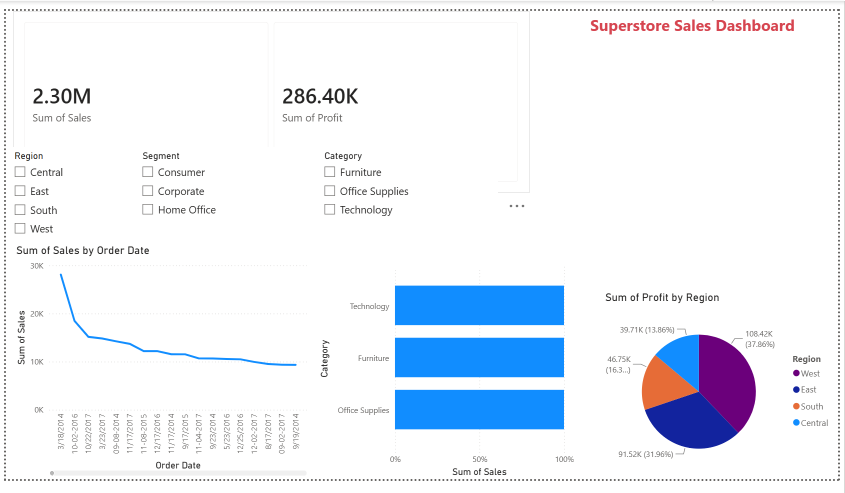

This screenshot's page, from the dashboard's own definition file:
{"tool":"powerbi","page":{"name":"Page 1","canvas":[1280,720],"ordinal":0},"visuals":[{"type":"cardVisual","fields":{"Data":["Sum(Sample_ Superstore.Sales)","Sum(Sample_ Superstore.Profit)"]},"box":[10.8,0,795.4,280],"z":0},{"type":"hundredPercentStackedBarChart","fields":{"Y":["Sum(Sample_ Superstore.Sales)"],"Category":["Sample_ Superstore.Category"]},"box":[476.9,358.5,401.5,363.1],"z":1},{"type":"pieChart","fields":{"Category":["Sample_ Superstore.Region"],"Y":["Sum(Sample_ Superstore.Profit)"]},"box":[916.9,430.8,363.1,290.8],"z":2},{"type":"lineChart","fields":{"Category":["Sample_ Superstore.Order Date"],"Y":["Sum(Sample_ Superstore.Sales)"]},"box":[10.8,358.5,456.9,361.5],"z":3},{"type":"slicer","fields":{"Values":["Sample_ Superstore.Region"]},"box":[0,209.2,280,138.5],"z":4},{"type":"slicer","fields":{"Values":["Sample_ Superstore.Segment"]},"box":[196.9,209.2,280,149.2],"z":5},{"type":"slicer","fields":{"Values":["Sample_ Superstore.Category"]},"box":[476.9,209.2,280,189.2],"z":6},{"type":"textbox","box":[893.8,0,386.2,53.8],"z":7}]}

Visuals, with their boxes on the page's 1280x720 design canvas (x1, y1, x2, y2). These are canvas units, not pixel positions in the 845x493 screenshot, which may show the page scaled, cropped or inside an application window:
cardVisual - Sum(Sample_ Superstore.Sales) x Sum(Sample_ Superstore.Profit): rect(11, 0, 806, 280)
hundredPercentStackedBarChart - Sum(Sample_ Superstore.Sales) x Sample_ Superstore.Category: rect(477, 358, 878, 722)
pieChart - Sample_ Superstore.Region x Sum(Sample_ Superstore.Profit): rect(917, 431, 1280, 722)
lineChart - Sample_ Superstore.Order Date x Sum(Sample_ Superstore.Sales): rect(11, 358, 468, 720)
slicer - Sample_ Superstore.Region: rect(0, 209, 280, 348)
slicer - Sample_ Superstore.Segment: rect(197, 209, 477, 358)
slicer - Sample_ Superstore.Category: rect(477, 209, 757, 398)
textbox: rect(894, 0, 1280, 54)
